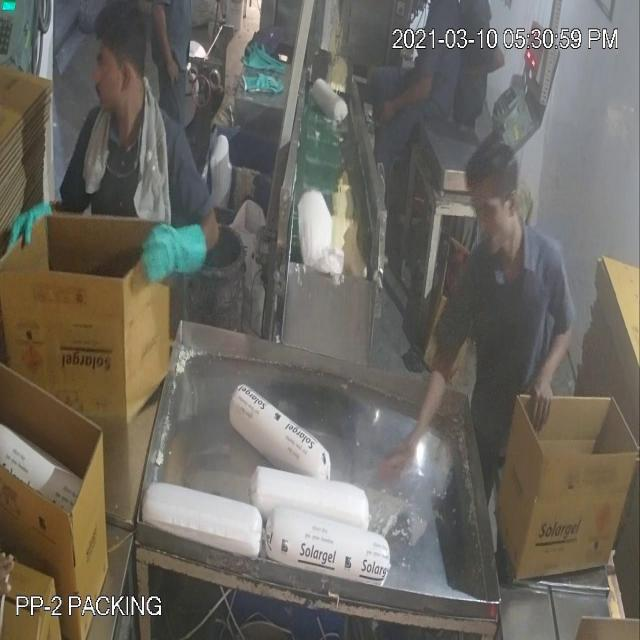No_Gloves: (38, 50, 555, 412)
